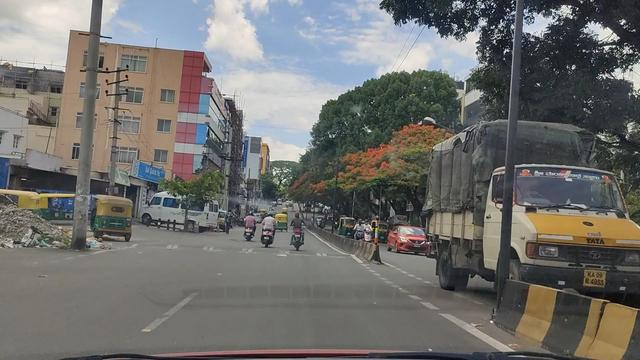SpeedBump: (152, 242, 352, 256)
